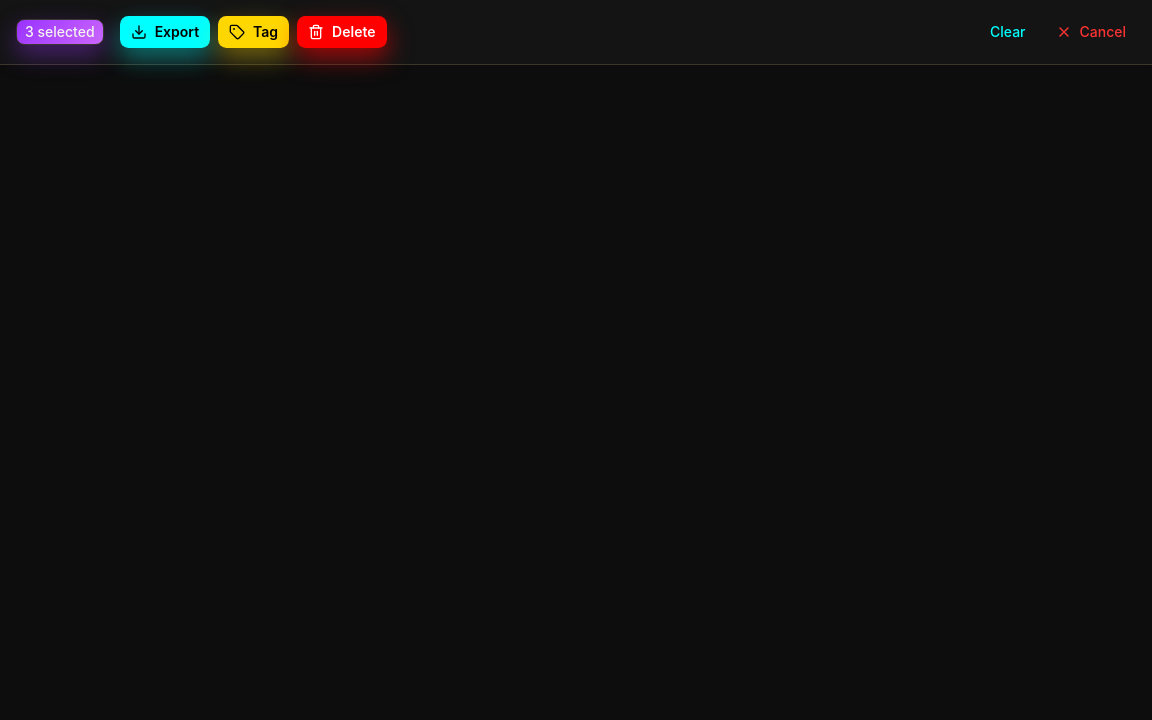
Test: BatchActions Component › Selection Mode Enabled - Items Selected › clicking Tag button opens tag dialog
This screenshot has width=1152, height=720.
Click the button "Tag" at point(254, 32), box [218,16,289,48]
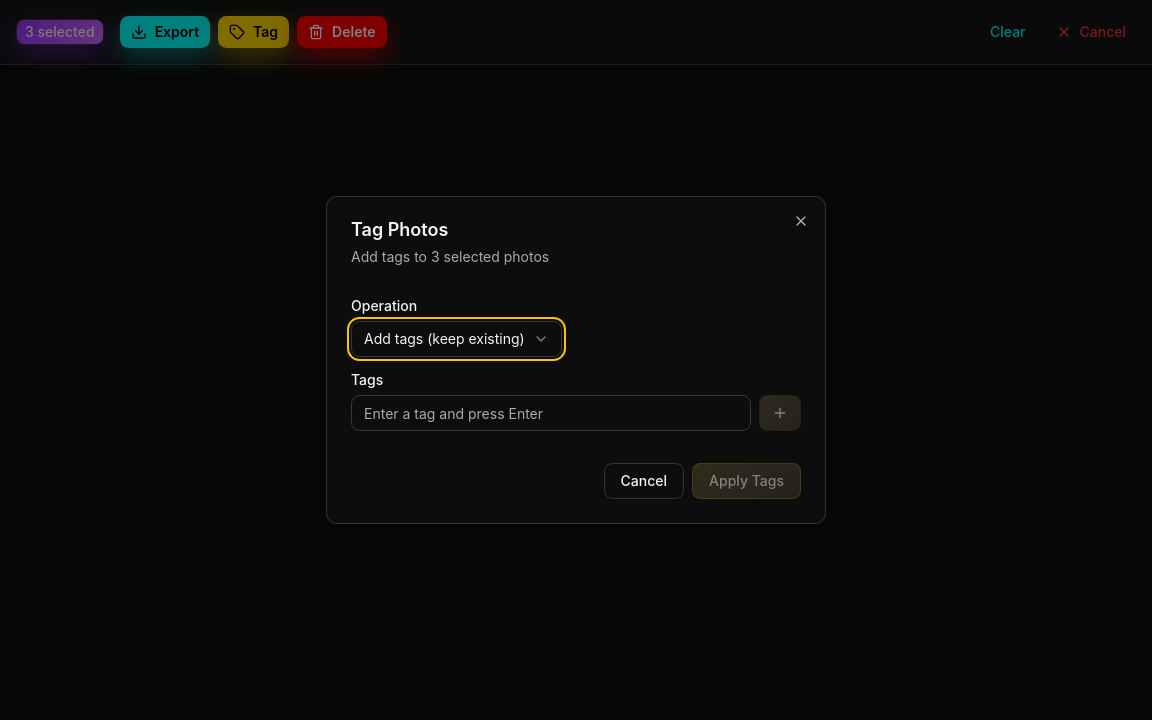
Now the heading "Tag Photos" is shown, box [351,219,448,240]
